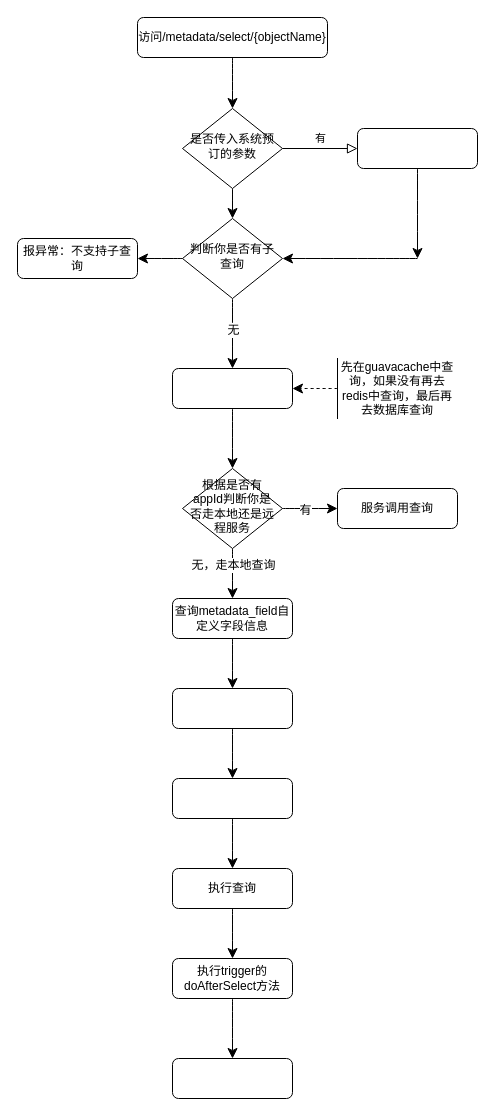
Some shapes in this 495 by 1116 pixel diagram are drawn without their labels. Each missing label, with the centre of its shape:
"执行trigger的doBeforeSelect方法" goes at (232,798).
"查询系统默认字段" goes at (232,708).
"根据apiName查询本地metadata_record定义信息" goes at (232,388).
"组装参数" goes at (417,148).
"返回结果" goes at (232,1078).
